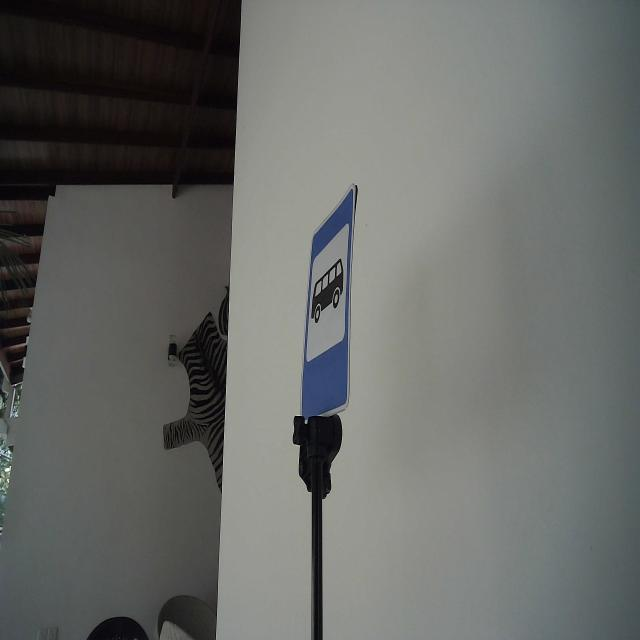bus_stop: (298, 183, 358, 424)
